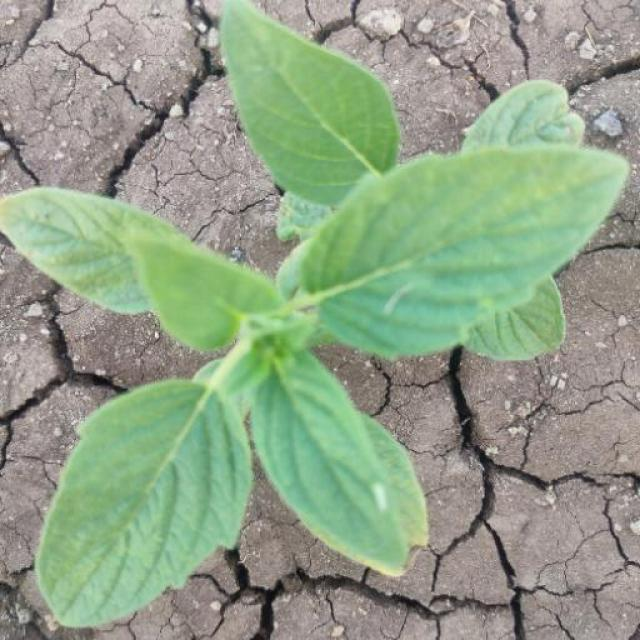crop: (20, 28, 626, 606)
